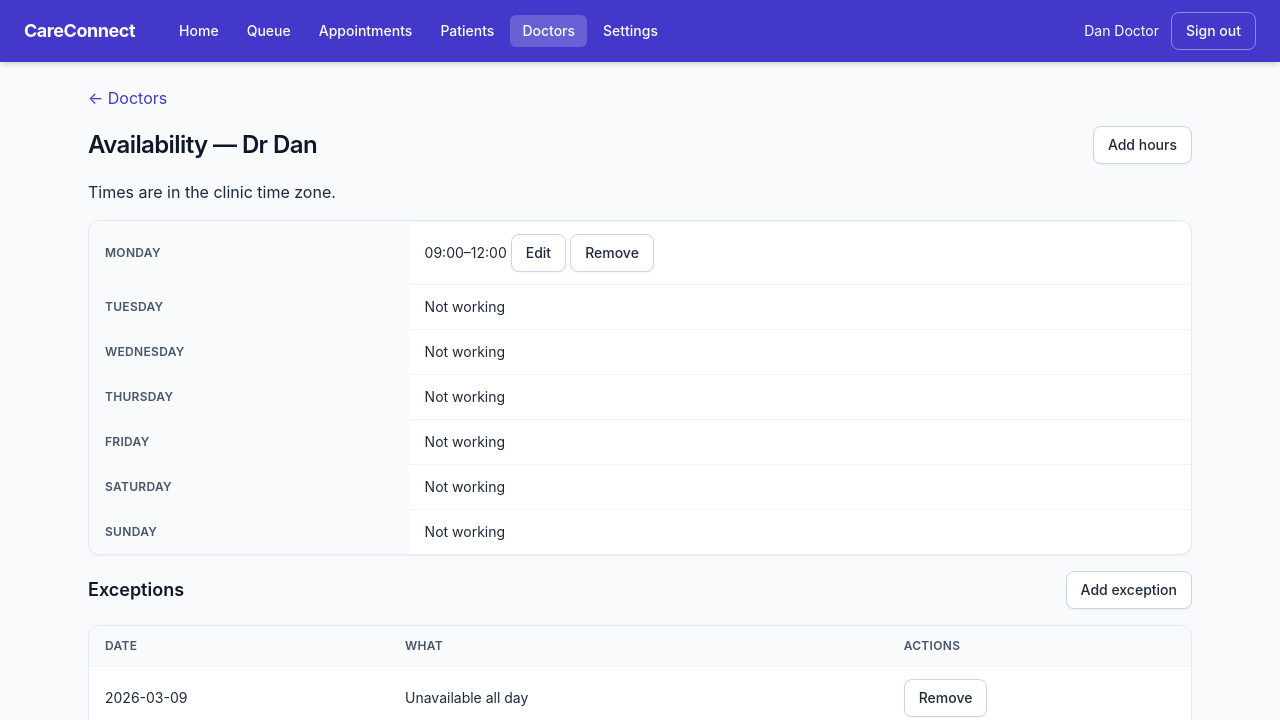
it: Availability editor › adds working hours
The width and height of the screenshot is (1280, 720).
Click the button "Add hours": (1142, 145) left=1093, top=126, right=1192, bottom=164
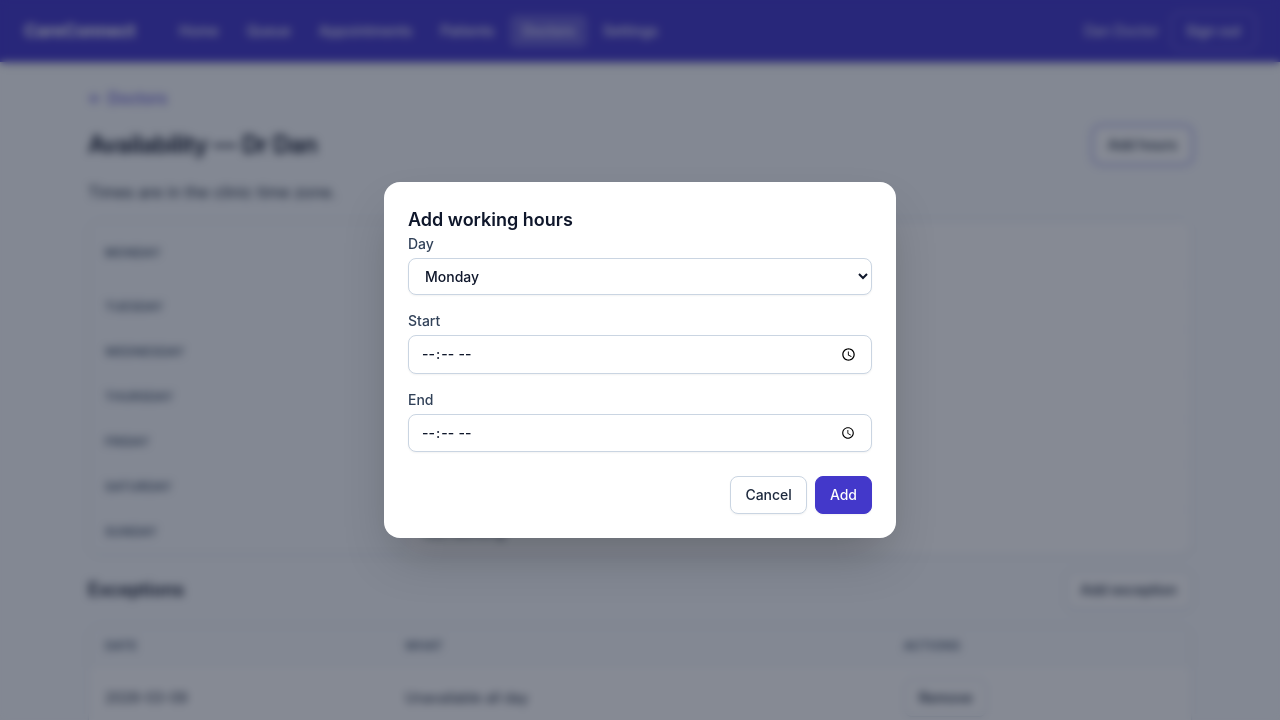
Select "Tuesday" in the dropdown labelled "Day": (640, 276) left=408, top=258, right=872, bottom=295
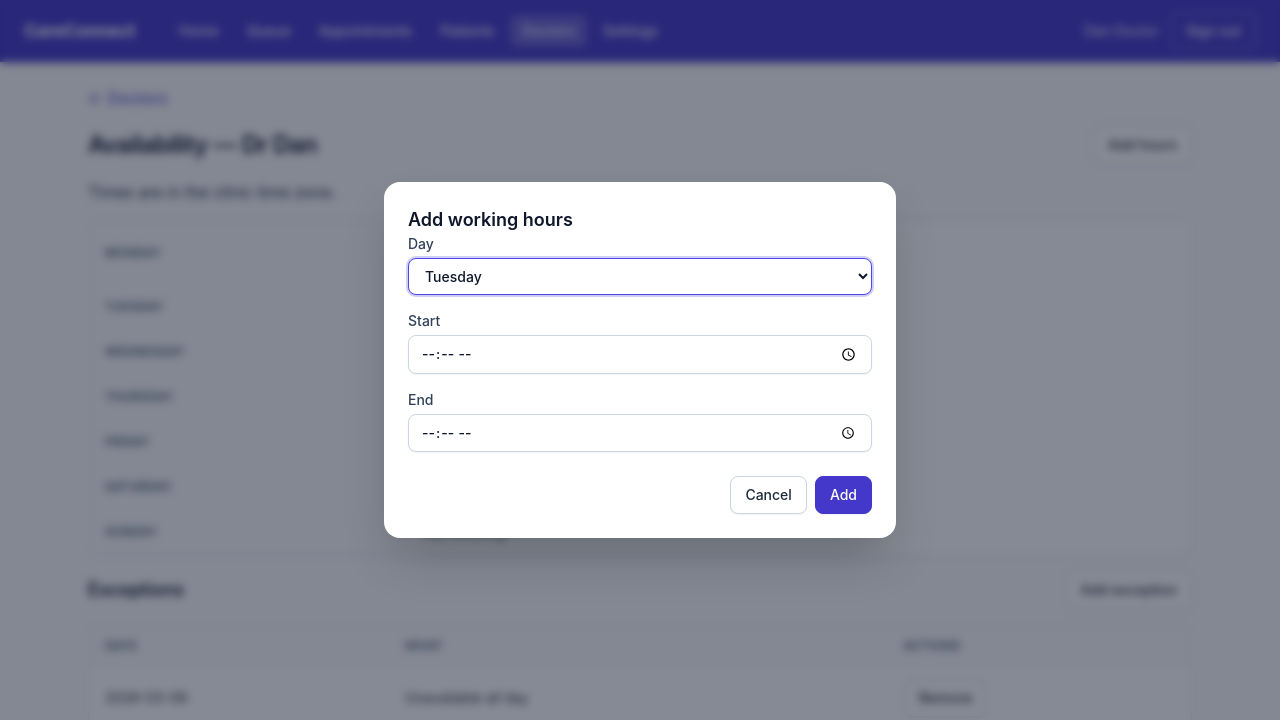
In the time field labelled "Start": (640, 354) left=408, top=335, right=872, bottom=374, type "10:00"
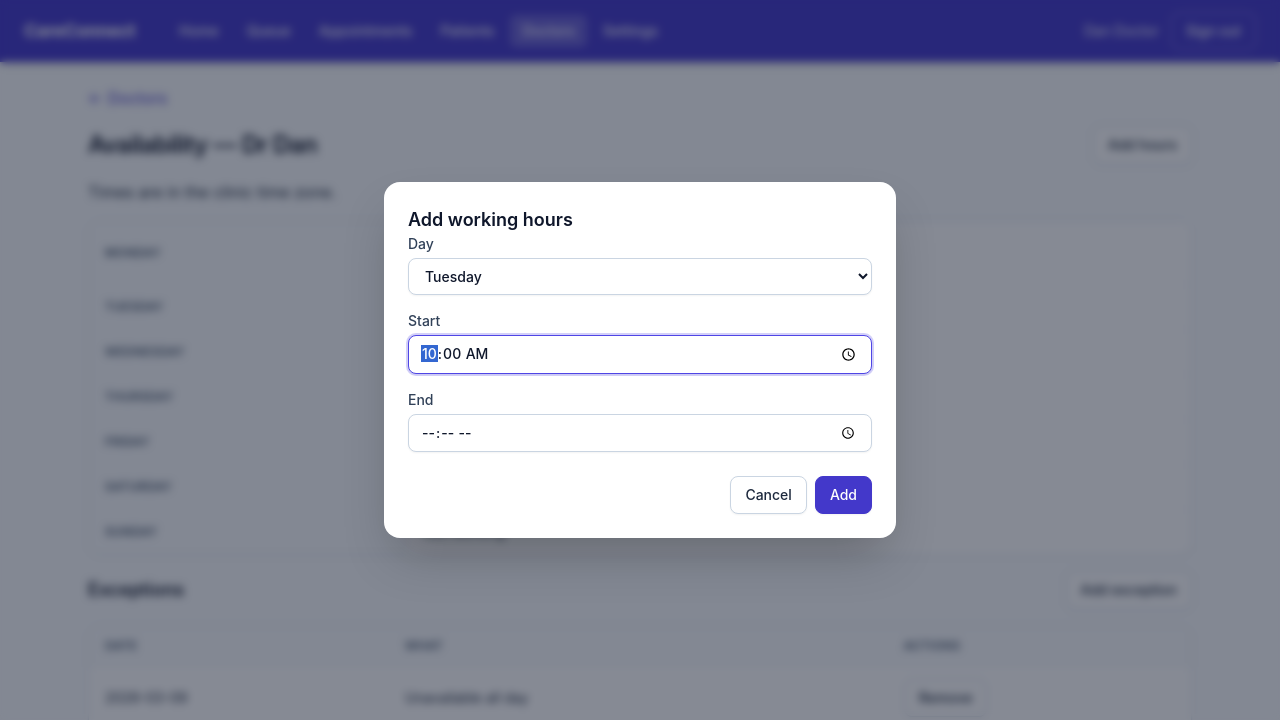
In the time field labelled "End": (640, 433) left=408, top=414, right=872, bottom=452, type "13:30"
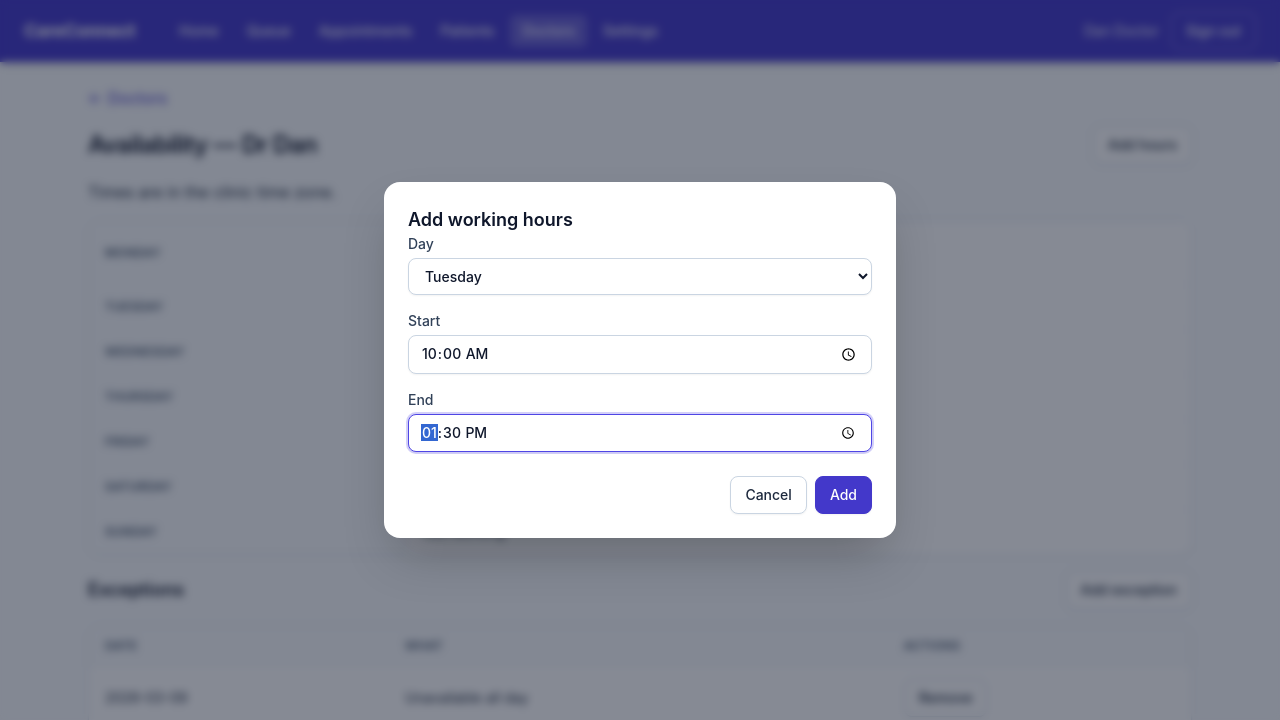
Click the button "Add": (843, 495) left=815, top=476, right=872, bottom=514
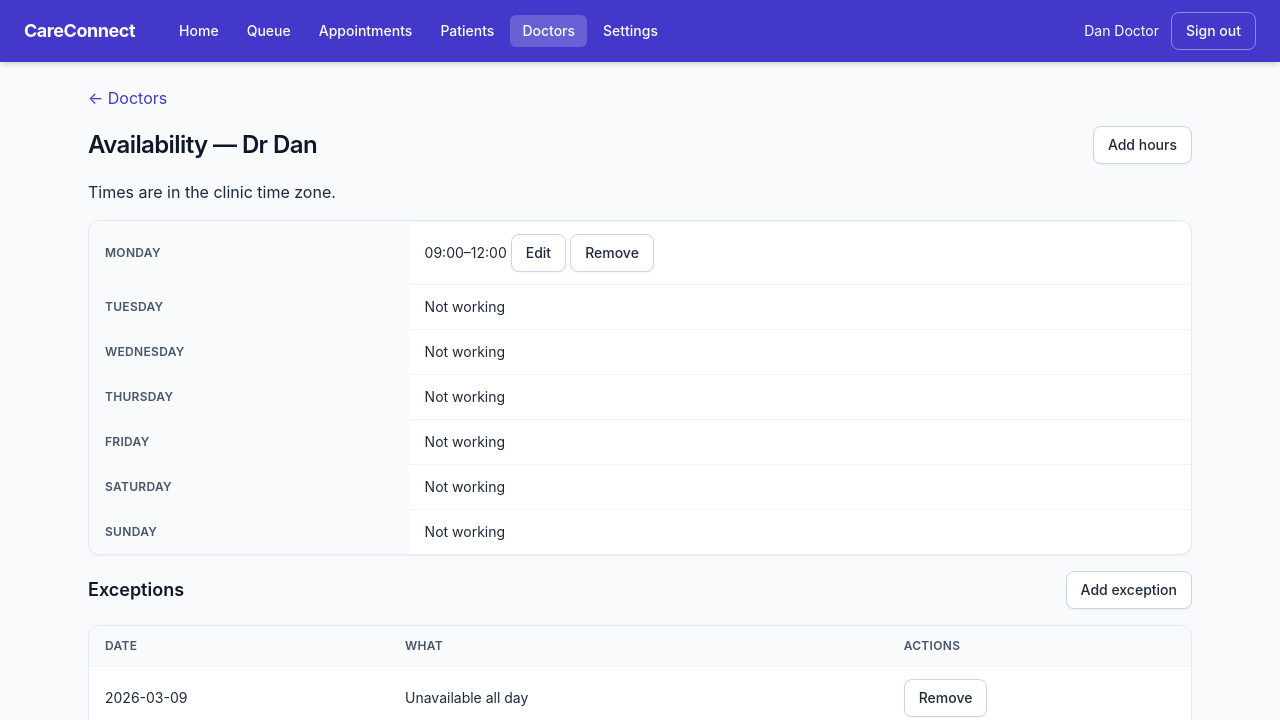
Result: the dialog is gone
